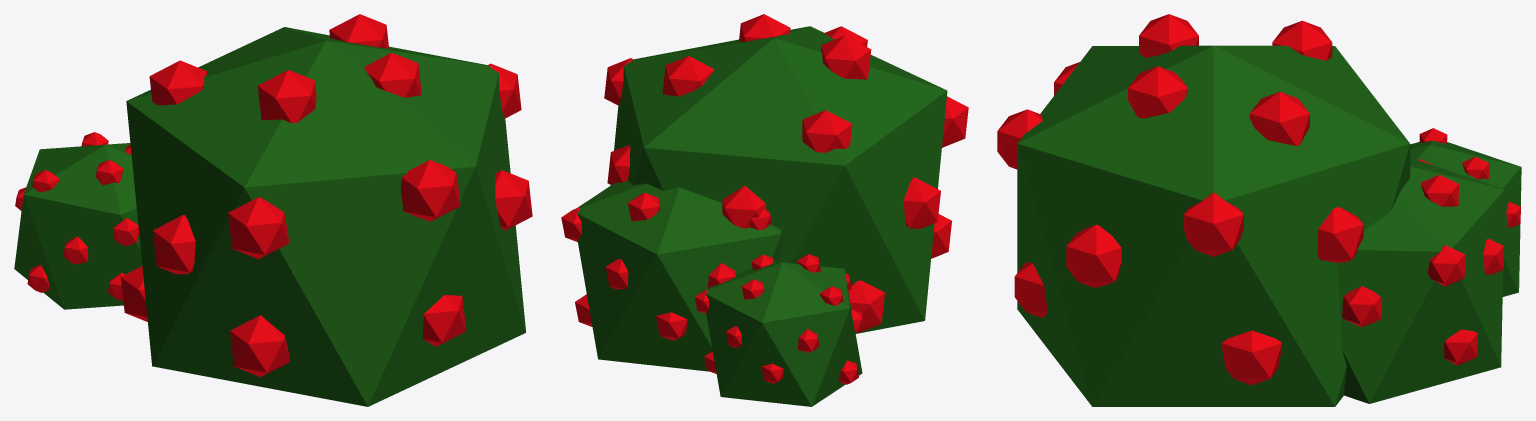
The model's file is Comida Recurso.glb.
3 renders of one model, left to right at view 1: azimuth 30°, elevation 25°; view 2: azimuth 150°, elevation 25°; view 3: azimuth 270°, elevation 25°, orthographic. The views are drawn at different scales.
Visible parts, largest first — view 1: Icosphere.002; view 2: Icosphere.002; view 3: Icosphere.002.
Boxes of the visible parts, left/top/right/bottom form: Icosphere.002: left=14, top=14, right=532, bottom=406; Icosphere.002: left=561, top=14, right=968, bottom=406; Icosphere.002: left=997, top=14, right=1521, bottom=406.
Bounding box in the file's own units: 1.99 × 1.4 × 2.27.
